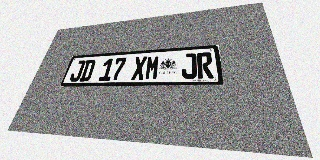1: (98, 58, 115, 81)
7: (110, 57, 127, 81)
D: (79, 59, 96, 81)
J: (68, 60, 86, 82), (182, 53, 197, 79)
M: (144, 55, 160, 80)
R: (197, 52, 214, 79)
X: (131, 56, 147, 80)
